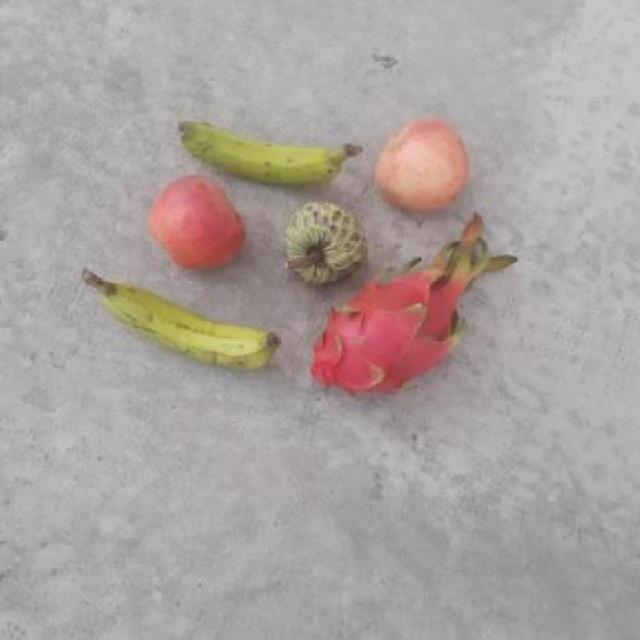apple: (148, 170, 248, 268), (375, 118, 470, 212)
banana: (98, 275, 282, 374), (172, 113, 343, 189)
dragon fruit: (307, 275, 462, 402)
sugar apple: (279, 202, 366, 288)
